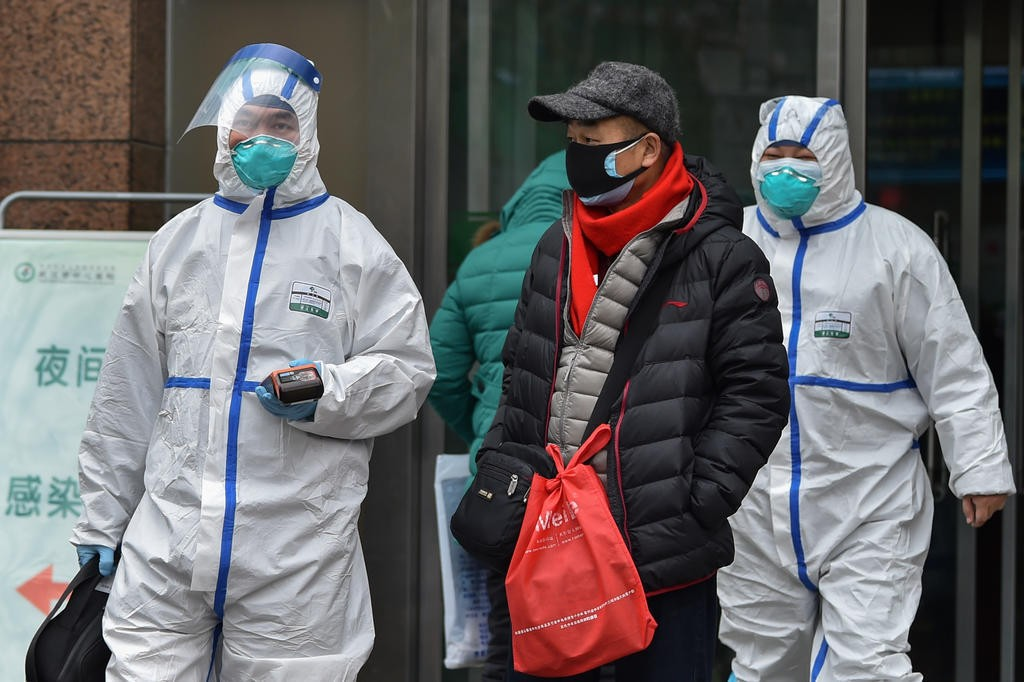Coverall: (70, 66, 436, 682), (712, 89, 1017, 682)
Face_Shield: (172, 38, 323, 155)
Gloves: (251, 359, 326, 423), (75, 537, 126, 577)
with_mask: (231, 108, 297, 191), (565, 124, 633, 204), (755, 144, 823, 219)
